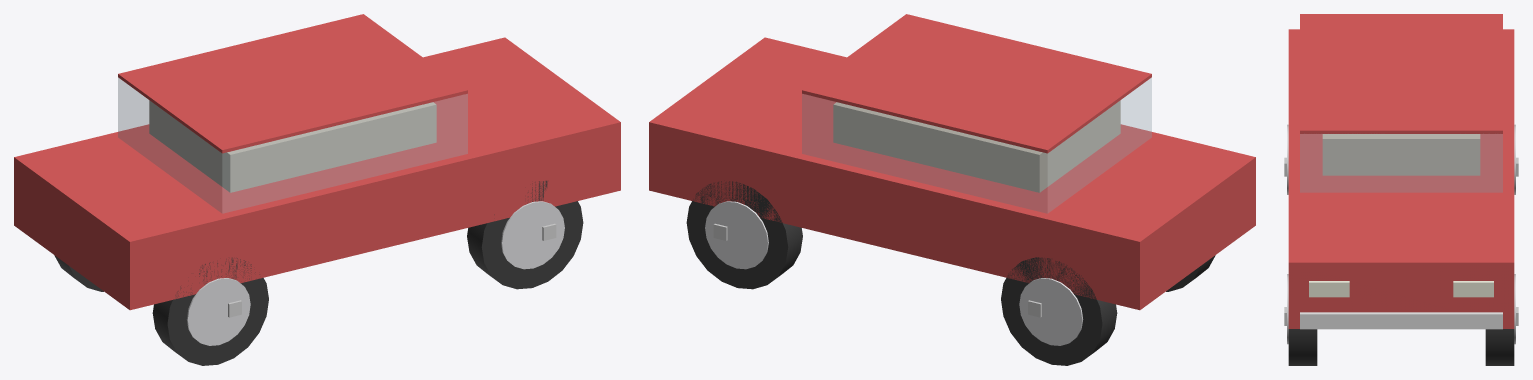
The model's file is de_carModel_summit.glb.
The picture shows the model from 3 angles, left to right: view 1: azimuth 30°, elevation 25°; view 2: azimuth 150°, elevation 25°; view 3: azimuth 270°, elevation 25°; orthographic projection. The views are drawn at different scales.
Parts seen in each view (by area): view 1: PlaceholderCar; view 2: PlaceholderCar; view 3: PlaceholderCar.
Part boxes in pixels (box(x1,y1,x2,y2)): PlaceholderCar: box(14, 14, 620, 365); PlaceholderCar: box(649, 14, 1255, 365); PlaceholderCar: box(1284, 14, 1518, 365).
Bounding box in the file's own units: 4.64 × 1.86 × 1.95.
